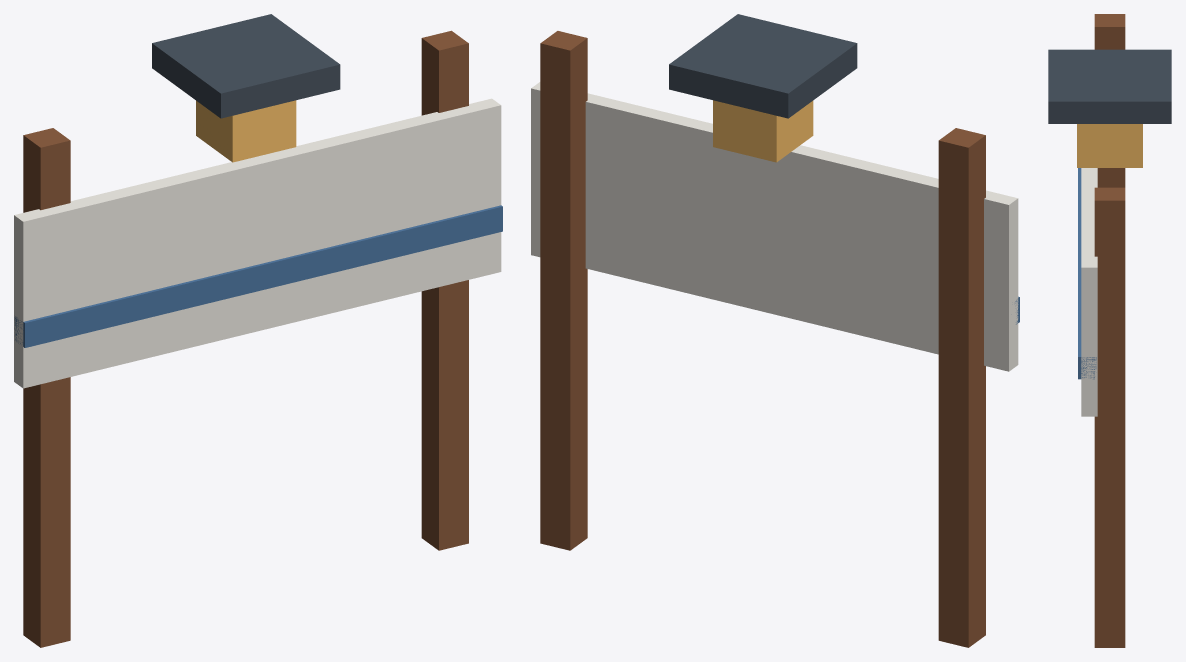
The model's file is station_sign_s1.fbx.
3 renders of one model, left to right at view 1: azimuth 30°, elevation 25°; view 2: azimuth 150°, elevation 25°; view 3: azimuth 270°, elevation 25°, orthographic. The views are drawn at different scales.
Visible parts, largest first — view 1: station_sign_s1; view 2: station_sign_s1; view 3: station_sign_s1.
Boxes of the visible parts, x1,y1,x2,y2 form: station_sign_s1: (14, 14, 502, 647); station_sign_s1: (531, 14, 1019, 647); station_sign_s1: (1048, 14, 1171, 647).
Bounding box in the file's own units: 2.4 × 2.57 × 0.6.
Materials: 2 (2 with a texture image).
